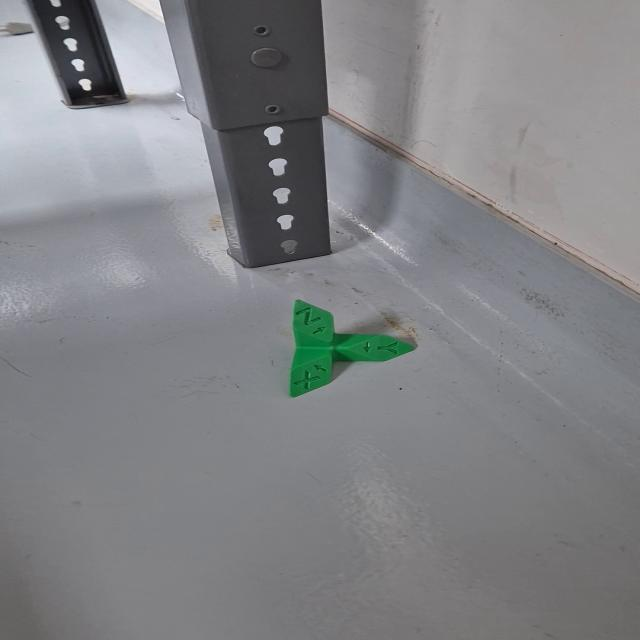objects: (270, 294, 424, 402)
